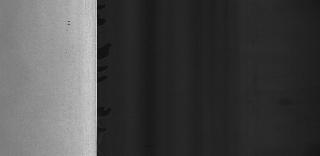oil spot: (64, 18, 74, 26)
